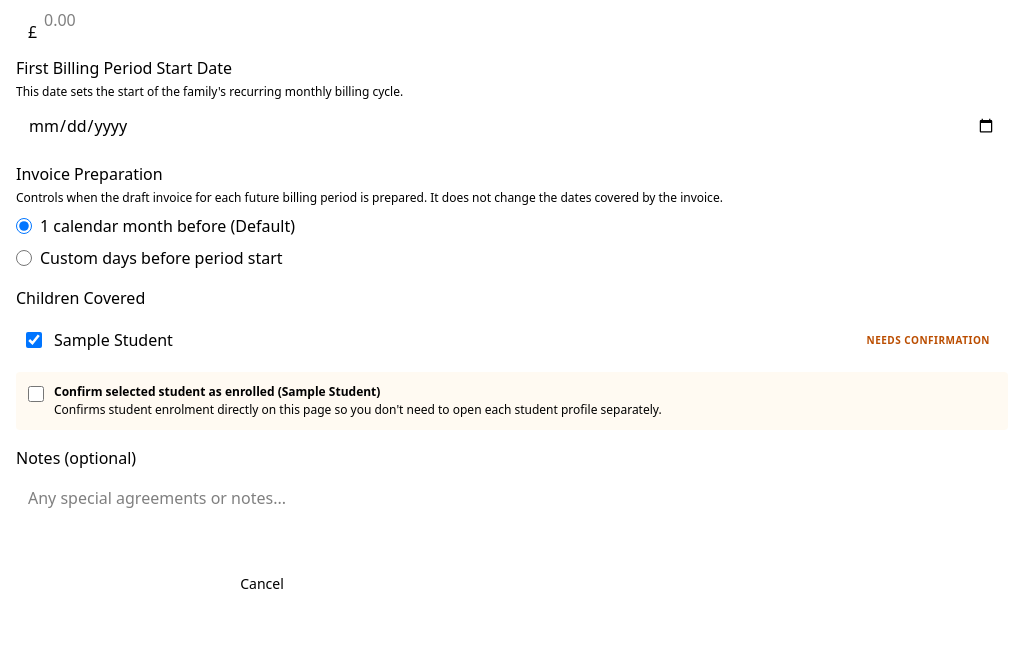
Test: billing form recovery › allows confirming unconfirmed student enrolment inline on the billing page
Expected: the text "Needs confirmation" is shown, [858, 330, 998, 350]
Step 1. Type "2026-10-15" into the date field → (512, 126), box [16, 106, 1008, 146]
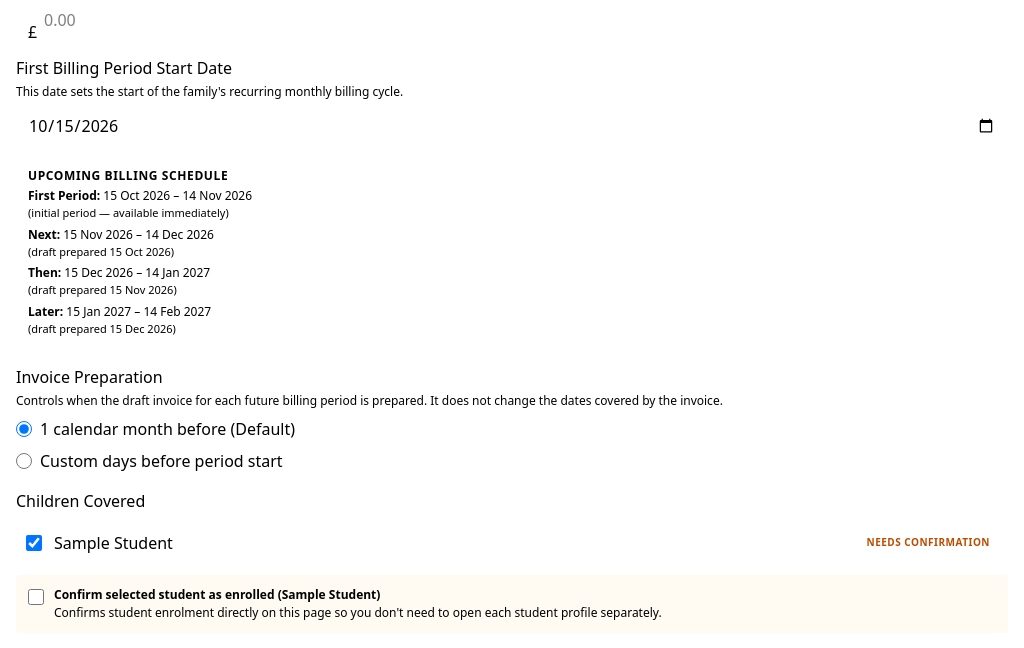
Step 2. Click the checkbox labelled "Confirm selected student as enrolled" → (36, 597), box [28, 589, 44, 605]
(page scrolled)
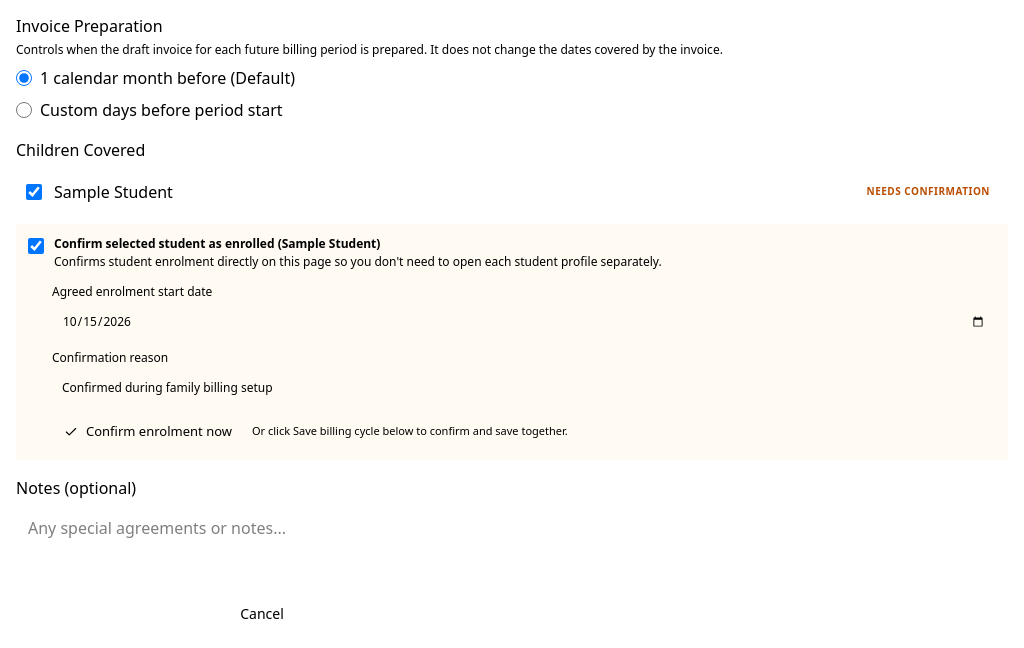
Step 3. Click the button "Confirm enrolment now" → (148, 432), box [52, 416, 244, 448]
(page scrolled)
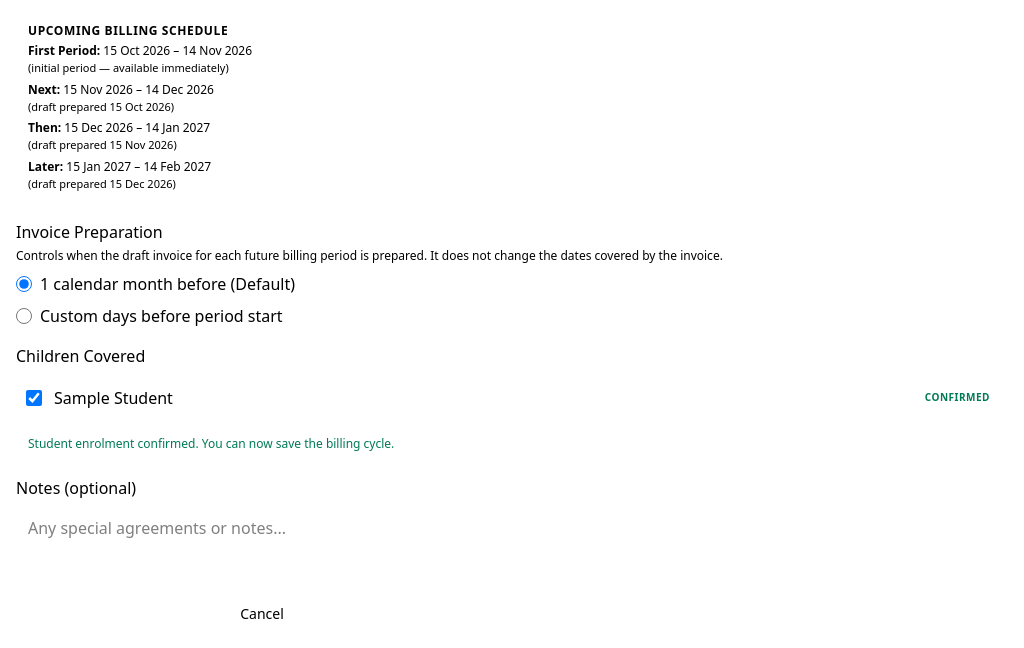
Expected: the text "Confirmed" is shown, [925, 390, 990, 404]
Expected: the message shows "Student enrolment confirmed", [28, 435, 394, 452]
